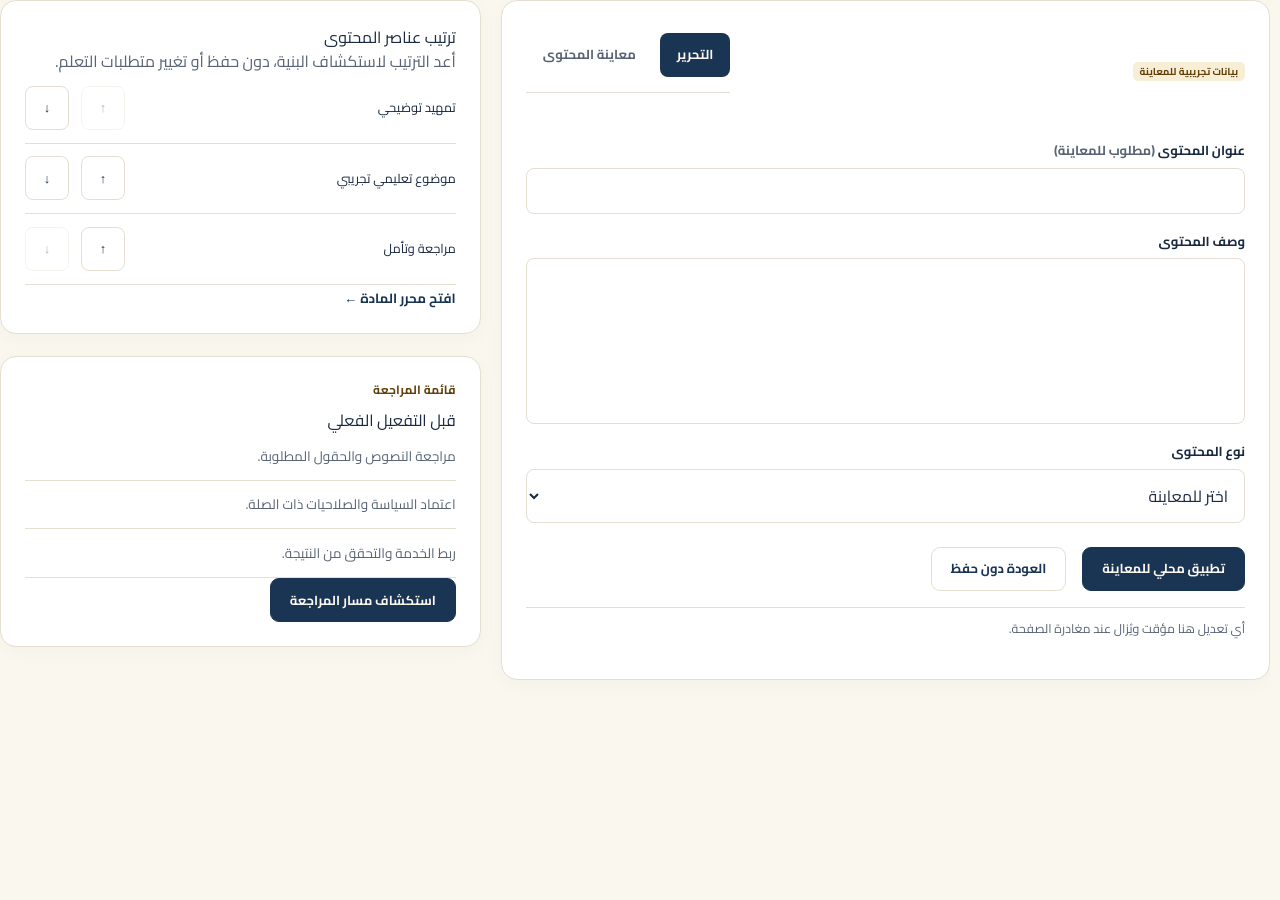
it: complete admin frontend previews › validates the preview editor and never treats local application as persistence
The width and height of the screenshot is (1280, 900).
Submit the form, box [526,141,1245,590]
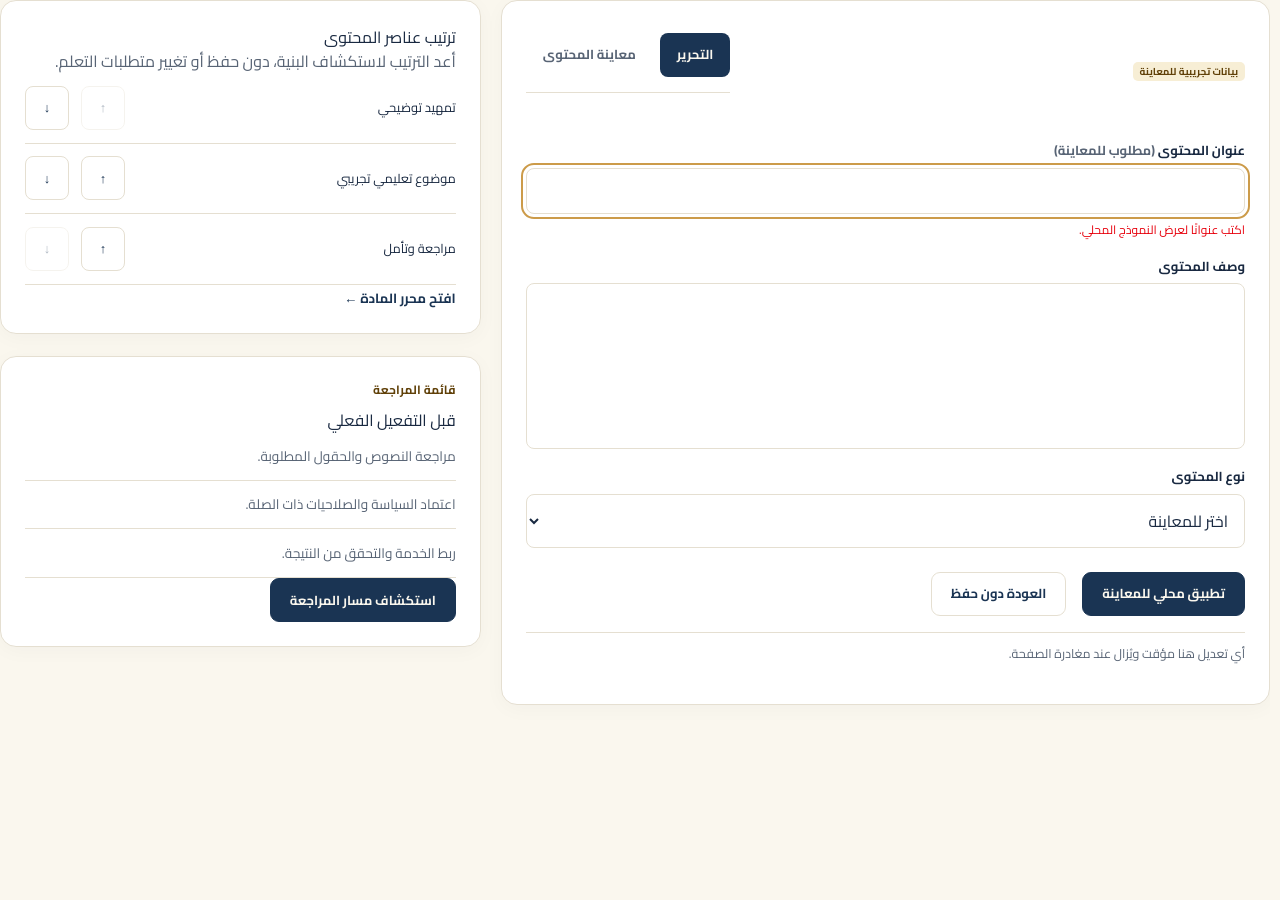
Type "مسودة محلية" into the field labelled "عنوان المحتوى (مطلوب للمعاينة)" at (885, 190), box [526,168,1245,214]
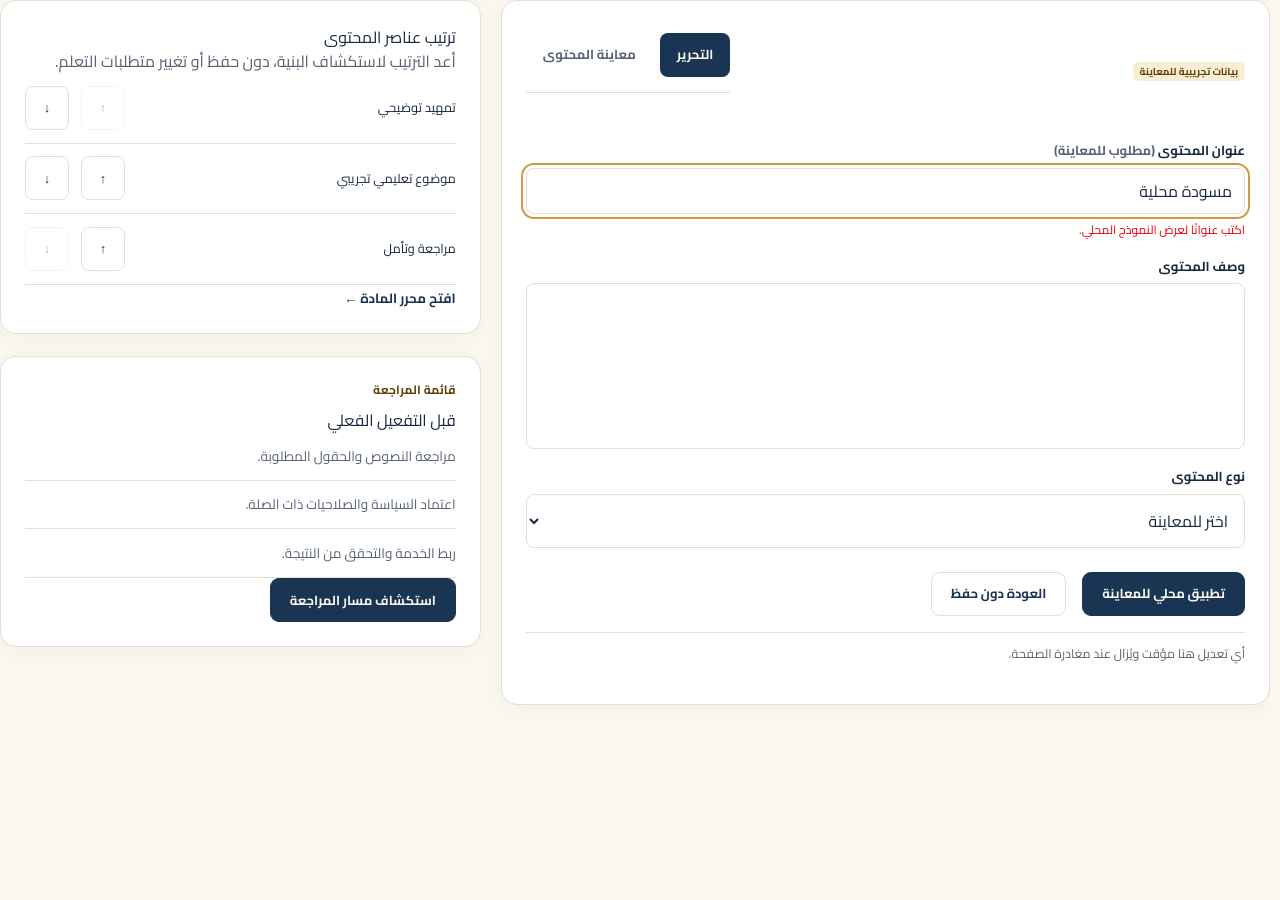
Submit the form, box [526,141,1245,616]
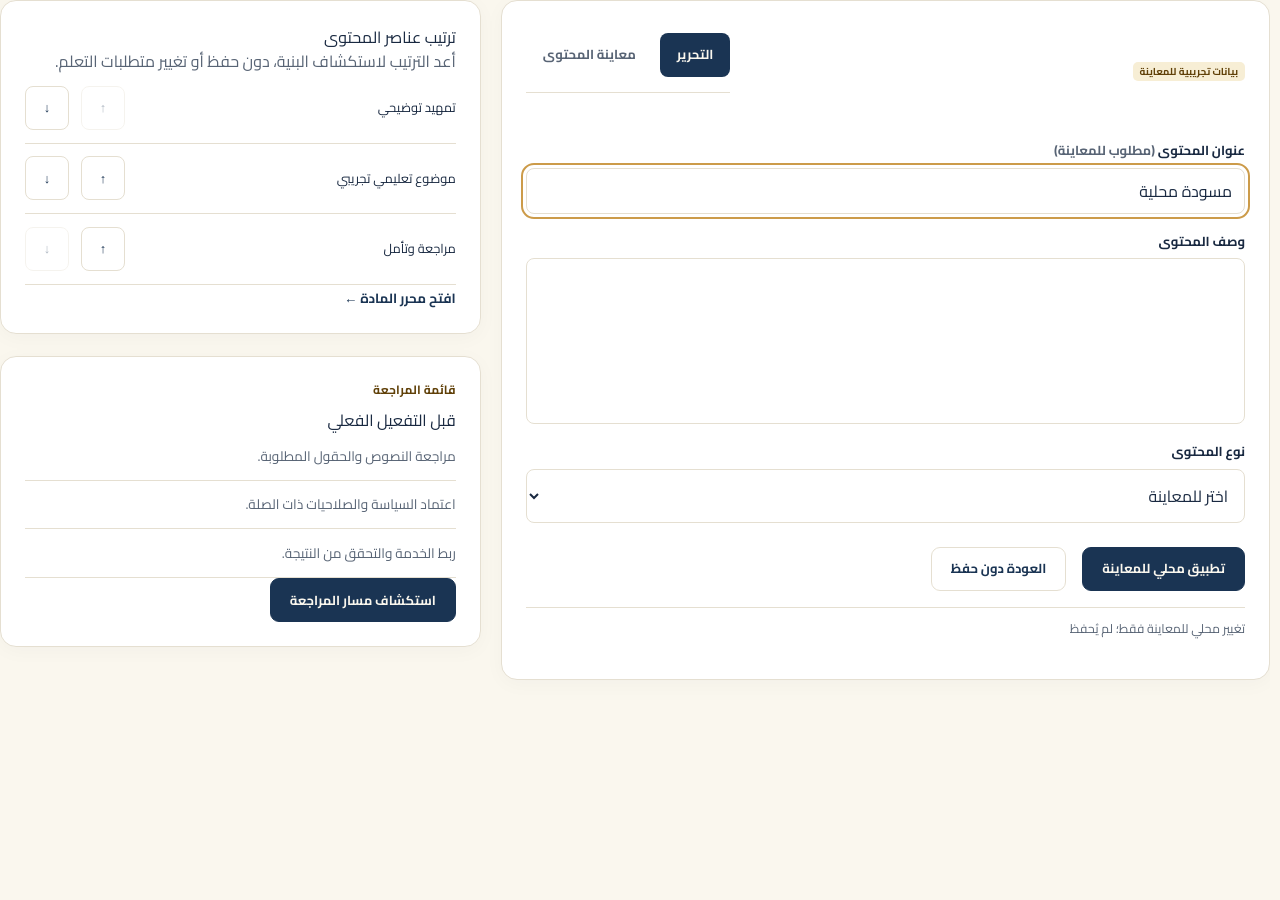
Check: the message reads "تغيير محلي للمعاينة فقط؛ لم يُحفظ", box [1070,617,1245,640]
